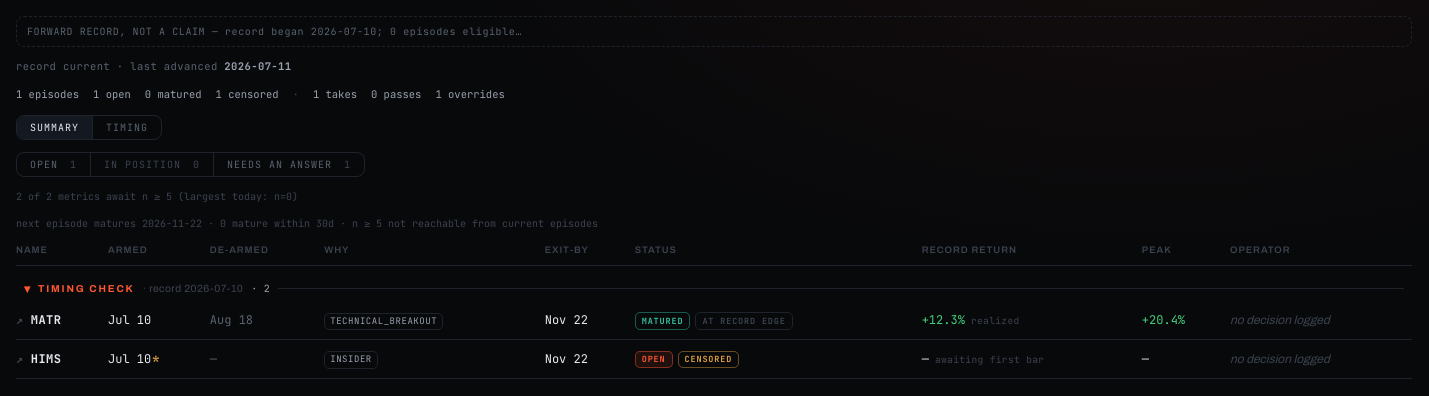
Scoreboard › Slice 2: the toggle swaps the ledger's middle columns, reversibly
Expected: the column heading "Why" is shown, 324,242 -> 545,266
Expected: the column heading "Exit-by" is shown, 545,242 -> 635,266
flip to Timing → the timing headers appear, the summary-only ones are gone
What coordinates should you click on to do the following:
click the button "Timing"
I would click on:
 (126, 127)
Its box is 92,116 -> 161,138.
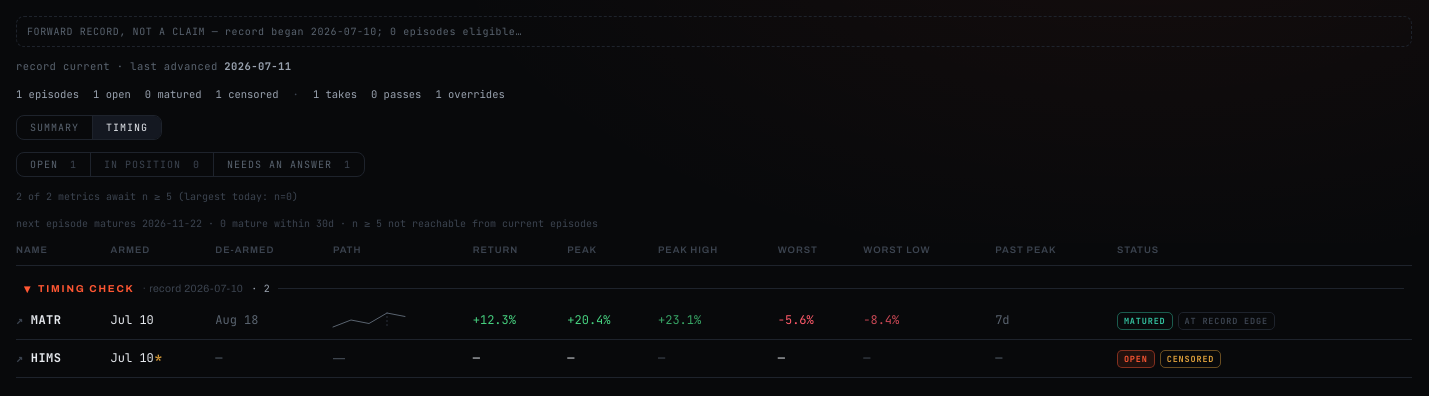
Expected: the button "Peak" is shown, 567,243 -> 597,257
Expected: the button "Peak high" is shown, 658,243 -> 718,257
Expected: the button "Worst" is shown, 778,243 -> 818,257
reversible: flip back to Summary
What coordinates should you click on to do the following:
click the button "Summary"
I would click on:
 (54, 127)
Its box is 17,116 -> 92,138.
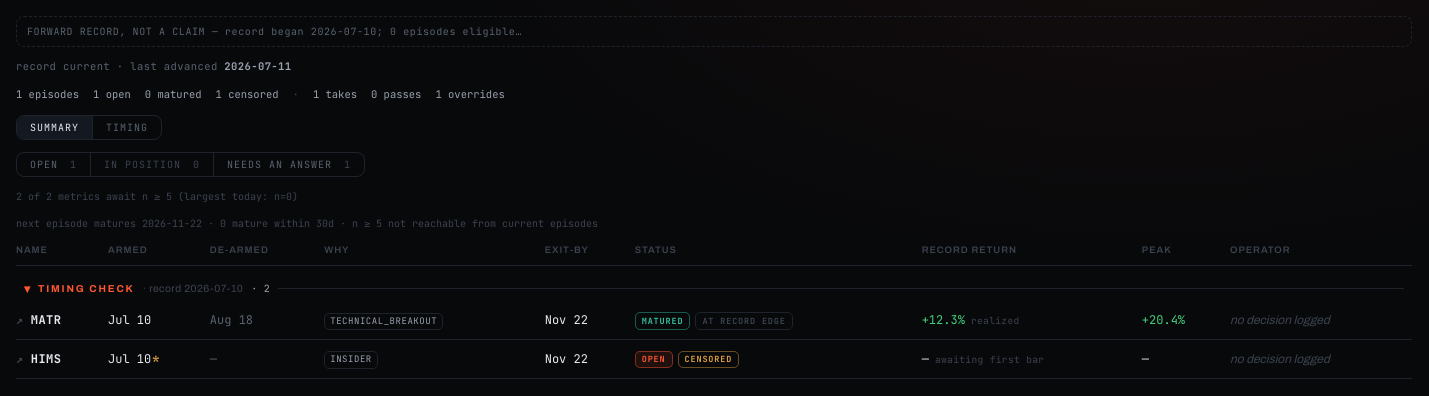
Expected: the column heading "Why" is shown, 324,242 -> 545,266
Expected: the button "Peak" is shown, 1142,243 -> 1172,257
Expected: the button "Peak high" is gone
